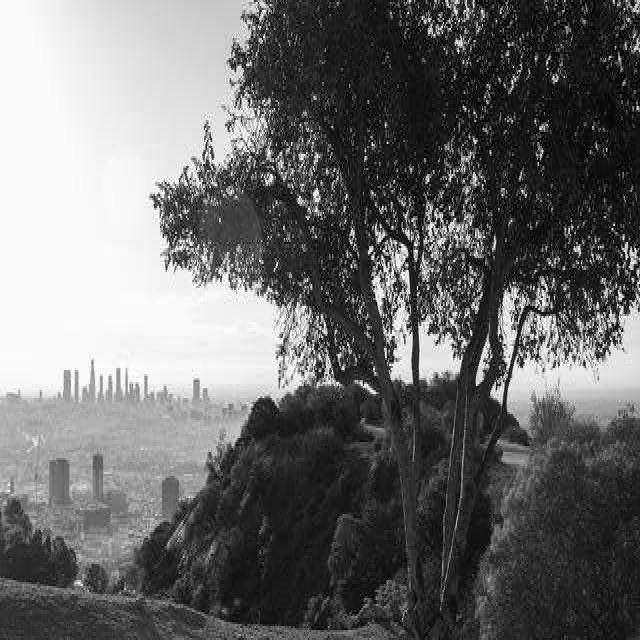Tree: (154, 2, 640, 606)
